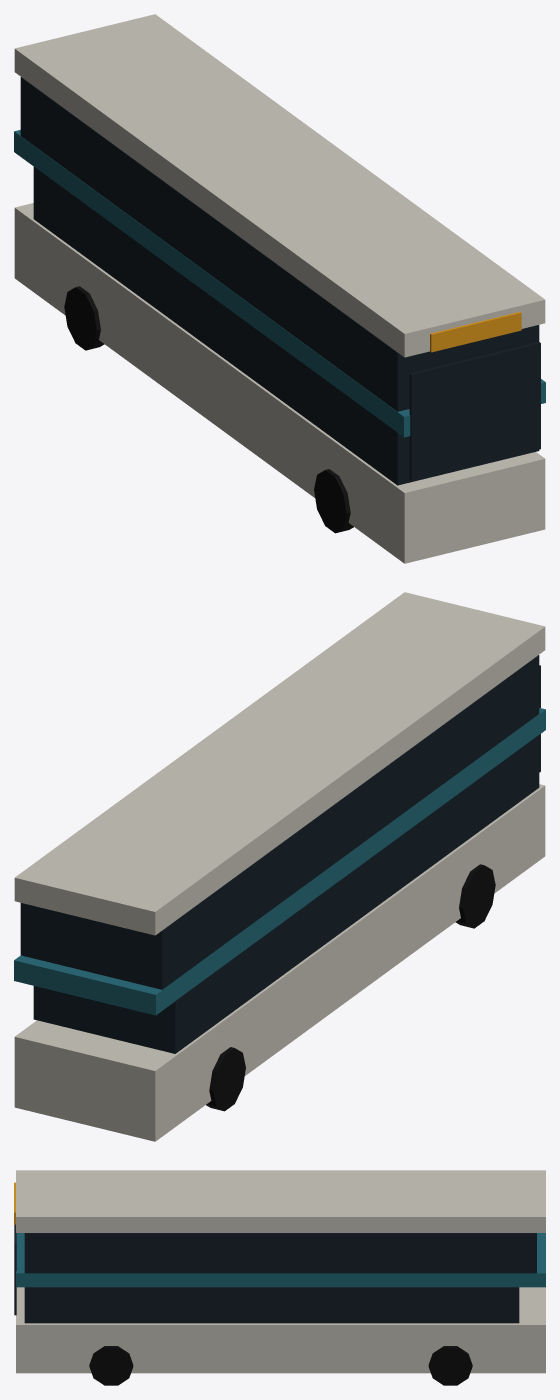
The model's file is hk-double-decker-bus.glb.
3 views of the same model, one above another, from view 1: azimuth 30°, elevation 25°; view 2: azimuth 150°, elevation 25°; view 3: azimuth 270°, elevation 25° (orthographic). The views are drawn at different scales.
Visible parts, largest first — view 1: hk-double-decker-bus; view 2: hk-double-decker-bus; view 3: hk-double-decker-bus.
Part boxes in pixels (<box>): hk-double-decker-bus: <box>14,14,545,563</box>; hk-double-decker-bus: <box>14,592,545,1141</box>; hk-double-decker-bus: <box>14,1170,545,1385</box>.
Bounding box in the file's own units: 2.65 × 4.18 × 12.05.
